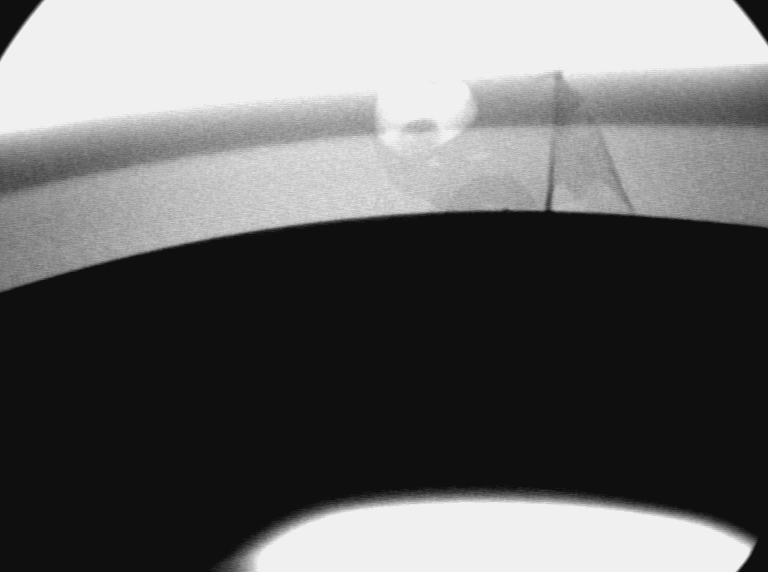defect: (464, 145, 496, 165)
